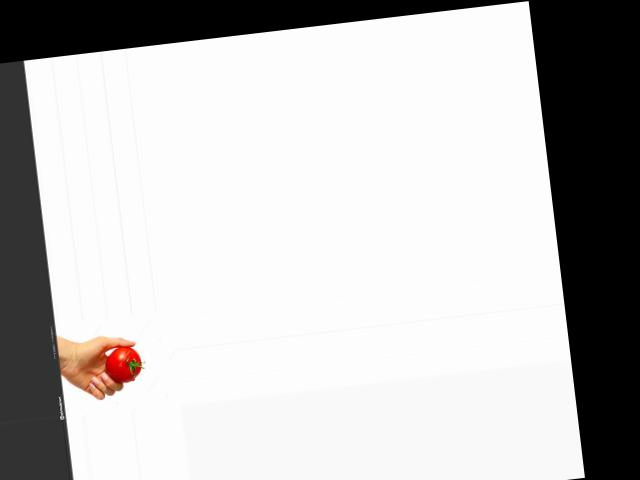tomato: (103, 344, 143, 383)
